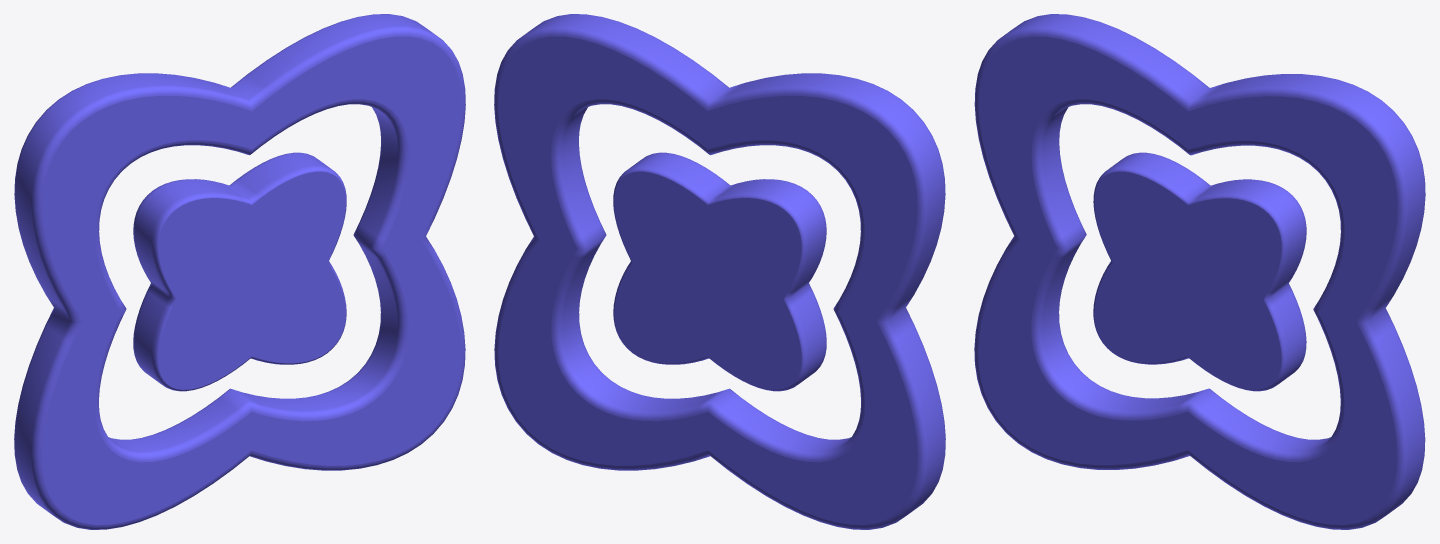
The model's file is save2.fbx.
3 views of the same model, side by side, from view 1: azimuth 30°, elevation 25°; view 2: azimuth 150°, elevation 25°; view 3: azimuth 330°, elevation 25° (orthographic).
Visible parts, largest first — view 1: Curve.001, Curve.002; view 2: Curve.001, Curve.002; view 3: Curve.001, Curve.002.
Boxes of the visible parts, x1=… form: Curve.001: x1=14, y1=14, x2=465, y2=529; Curve.002: x1=133, y1=152, x2=346, y2=391; Curve.001: x1=494, y1=14, x2=945, y2=529; Curve.002: x1=613, y1=152, x2=826, y2=391; Curve.001: x1=974, y1=14, x2=1425, y2=529; Curve.002: x1=1093, y1=152, x2=1306, y2=391.
Bounding box in the file's own units: 4.08 × 3.92 × 0.3894.
